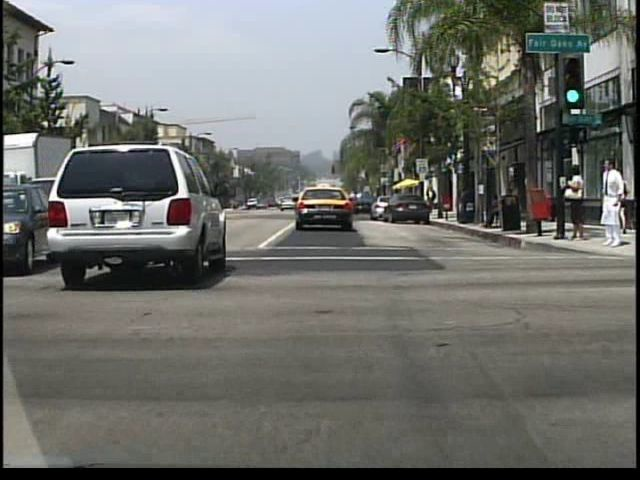person: (598, 159, 624, 249), (560, 162, 584, 240), (609, 169, 630, 235), (477, 190, 505, 231), (501, 179, 514, 227), (425, 185, 436, 206)
